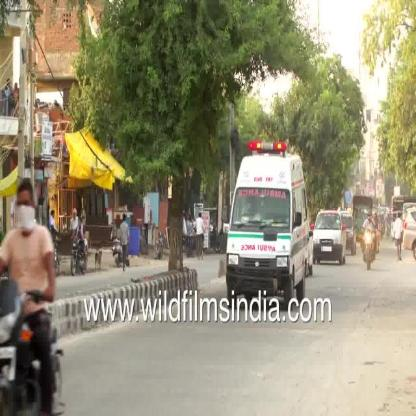priority: (230, 134, 314, 298)
